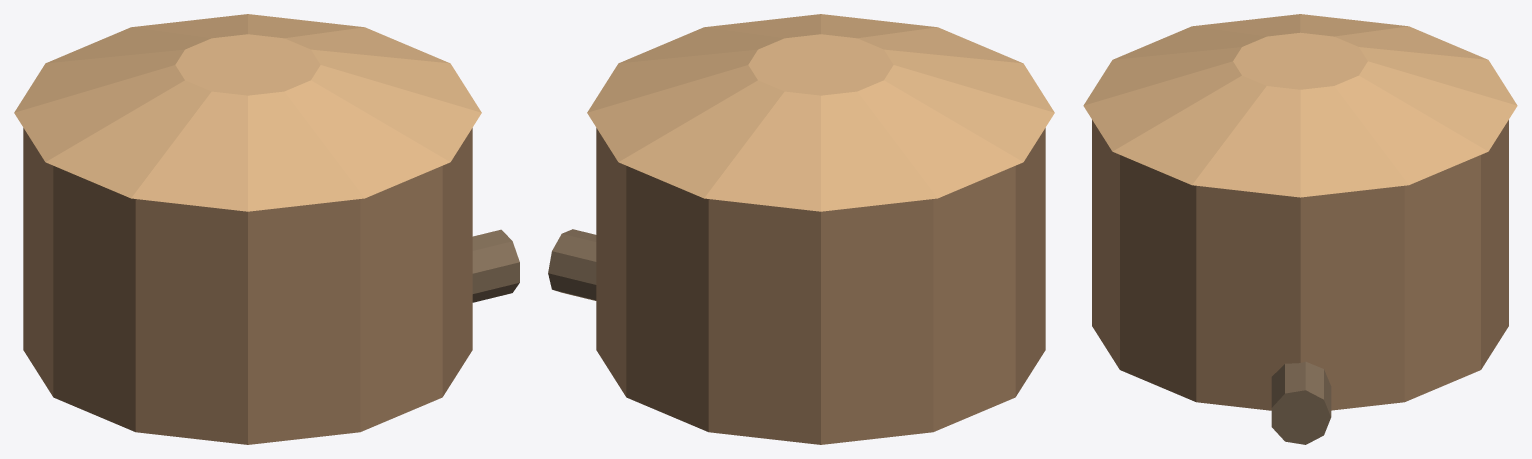
The model's file is cistern.glb.
3 views of the same model, side by side, from view 1: azimuth 30°, elevation 25°; view 2: azimuth 150°, elevation 25°; view 3: azimuth 270°, elevation 25° (orthographic). The views are drawn at different scales.
Parts seen in each view (by area): view 1: cistern; view 2: cistern; view 3: cistern.
Boxes of the visible parts, bbox=[...] form: cistern: bbox=[14, 14, 519, 444]; cistern: bbox=[548, 14, 1054, 444]; cistern: bbox=[1083, 14, 1517, 444].
Size of the model in its own units: 4.01 by 2.41 by 3.54.
